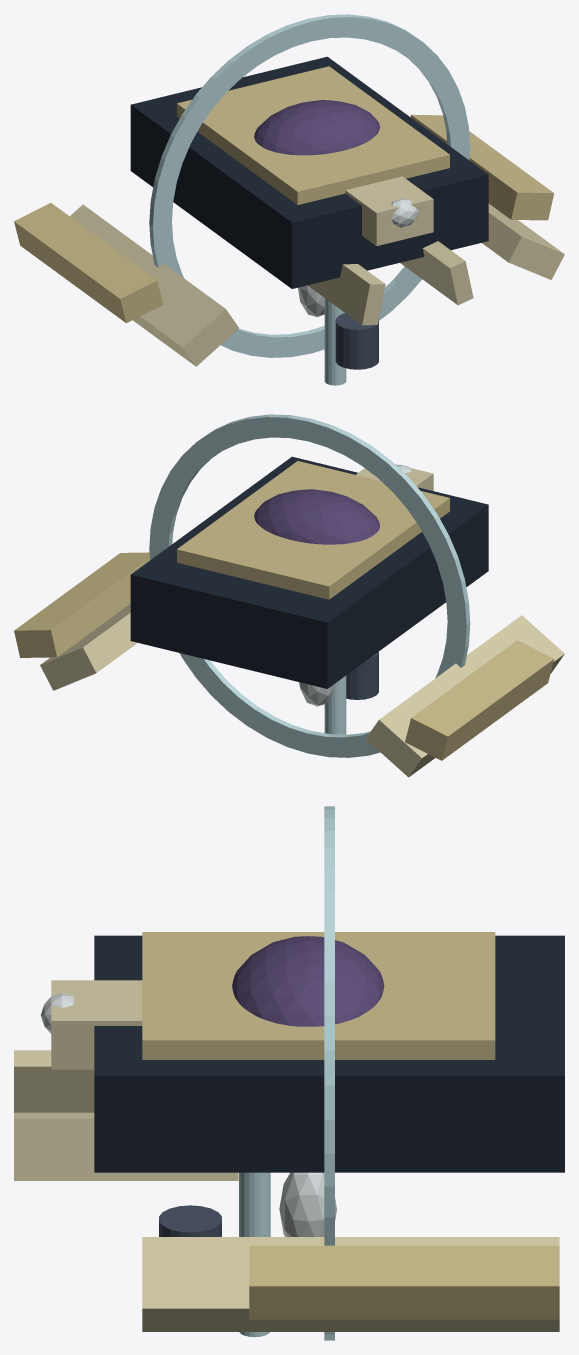
File: helias_luminant.glb
3 renders of one model, top to bottom at view 1: azimuth 30°, elevation 25°; view 2: azimuth 150°, elevation 25°; view 3: azimuth 270°, elevation 25°, orthographic. The views are drawn at different scales.
Visible parts, largest first — view 1: hull_shadow, hover_ring, hull, arm_tail_-1, arm_-1, canopy, arm_tail_1, nose, arm_1, prong_-1, prong_1, beam_socket (+3 smaller); view 2: hull_shadow, hover_ring, hull, arm_tail_-1, arm_tail_1, arm_-1, canopy, arm_1, beam_socket, harvest_beam, nose, held_crystal; view 3: hull_shadow, hull, arm_tail_1, arm_1, canopy, prong_1, nose, hover_ring, prong_-1, held_crystal, harvest_beam, beam_socket.
Boxes of the visible parts, left/top/right/bottom form: hull_shadow: left=130, top=56, right=488, bottom=288; hover_ring: left=149, top=14, right=470, bottom=357; hull: left=177, top=66, right=449, bottom=204; arm_tail_-1: left=14, top=203, right=163, bottom=323; arm_-1: left=70, top=204, right=238, bottom=366; canopy: left=254, top=100, right=379, bottom=155; arm_tail_1: left=410, top=114, right=554, bottom=220; nose: left=345, top=176, right=433, bottom=246; arm_1: left=482, top=203, right=564, bottom=279; prong_-1: left=308, top=264, right=385, bottom=325; prong_1: left=400, top=241, right=473, bottom=305; beam_socket: left=335, top=313, right=378, bottom=369; hull_shadow: left=130, top=456, right=488, bottom=688; hover_ring: left=149, top=414, right=470, bottom=757; hull: left=177, top=461, right=449, bottom=599; arm_tail_-1: left=405, top=640, right=553, bottom=760; arm_tail_1: left=14, top=552, right=149, bottom=657; arm_-1: left=366, top=615, right=564, bottom=777; canopy: left=254, top=489, right=380, bottom=544; arm_1: left=40, top=604, right=137, bottom=690; beam_socket: left=346, top=651, right=378, bottom=699; harvest_beam: left=324, top=675, right=346, bottom=734; nose: left=356, top=464, right=433, bottom=490; held_crystal: left=299, top=682, right=334, bottom=706; hull_shadow: left=94, top=935, right=564, bottom=1172; hull: left=142, top=932, right=495, bottom=1059; arm_tail_1: left=249, top=1246, right=559, bottom=1319; arm_1: left=142, top=1237, right=559, bottom=1331; canopy: left=232, top=936, right=384, bottom=1026; prong_1: left=14, top=1112, right=238, bottom=1180; nose: left=51, top=980, right=142, bottom=1069; hover_ring: left=324, top=806, right=334, bottom=1340; prong_-1: left=14, top=1050, right=94, bottom=1112; held_crystal: left=279, top=1172, right=336, bottom=1236; harvest_beam: left=239, top=1172, right=270, bottom=1337; beam_socket: left=159, top=1205, right=221, bottom=1236.
Size of the model in its own units: 1.37 by 1.03 by 1.03.
